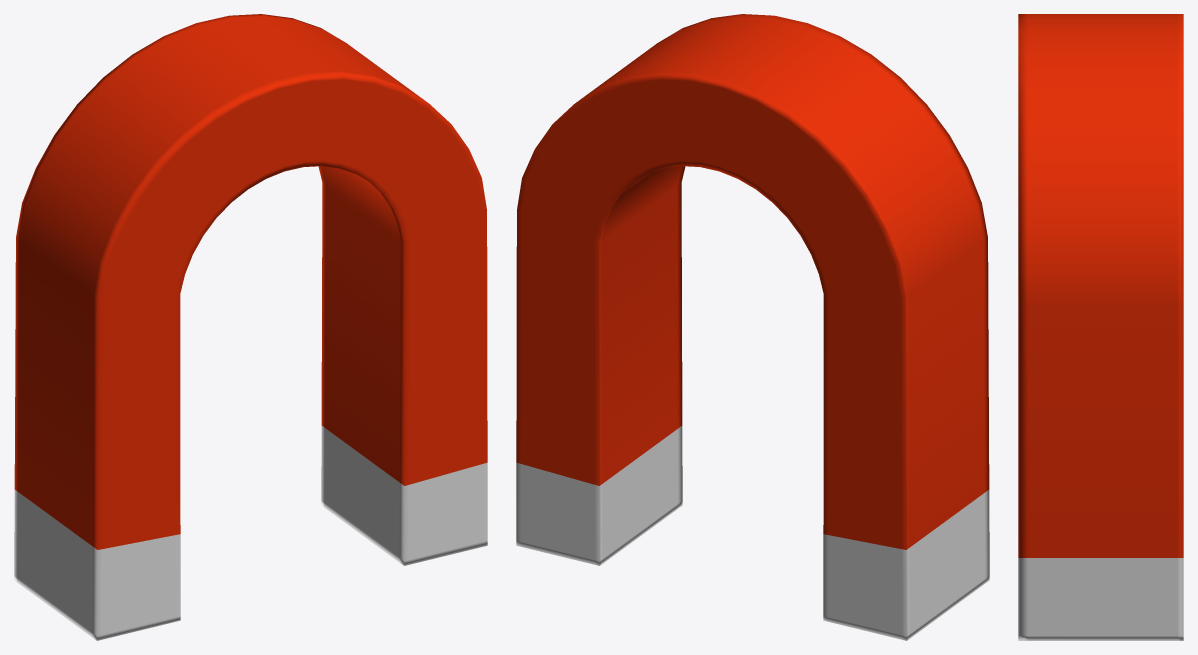
Rendered from magnet.fbx.
3 views of the same model, side by side, from view 1: azimuth 30°, elevation 25°; view 2: azimuth 150°, elevation 25°; view 3: azimuth 270°, elevation 25° (orthographic).
Parts seen in each view (by area): view 1: Iman_Low; view 2: Iman_Low; view 3: Iman_Low.
Boxes of the visible parts, left/top/right/bottom form: Iman_Low: left=14, top=14, right=487, bottom=640; Iman_Low: left=516, top=14, right=989, bottom=640; Iman_Low: left=1018, top=14, right=1183, bottom=640.
Size of the model in its own units: 109 by 136 by 40.
